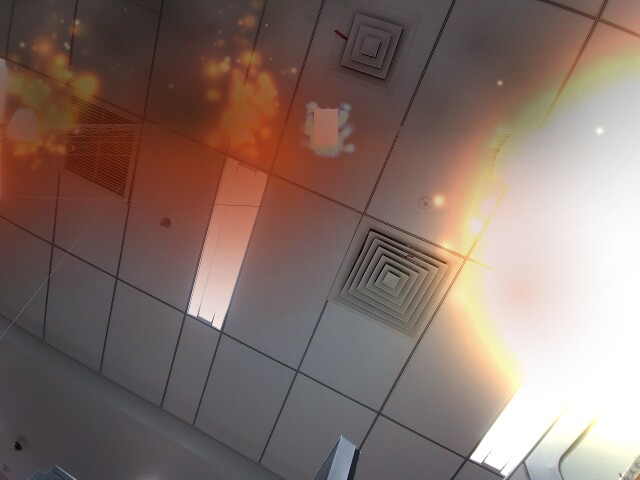fire: (448, 37, 638, 465)
